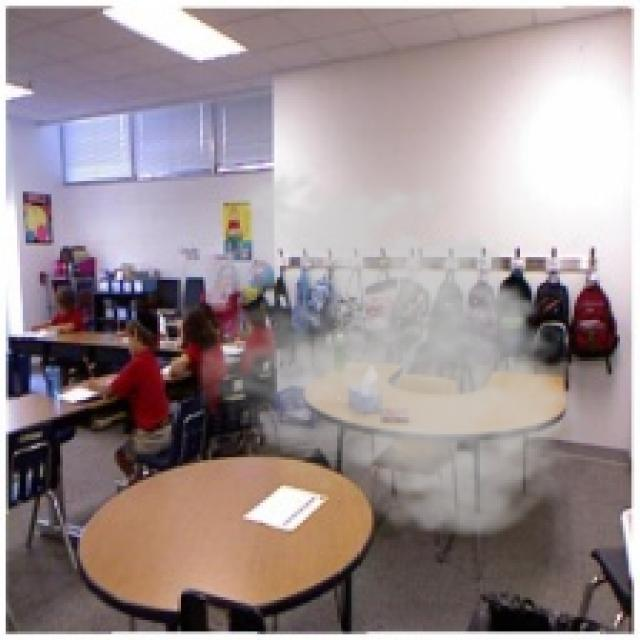smoke: (197, 160, 592, 546)
